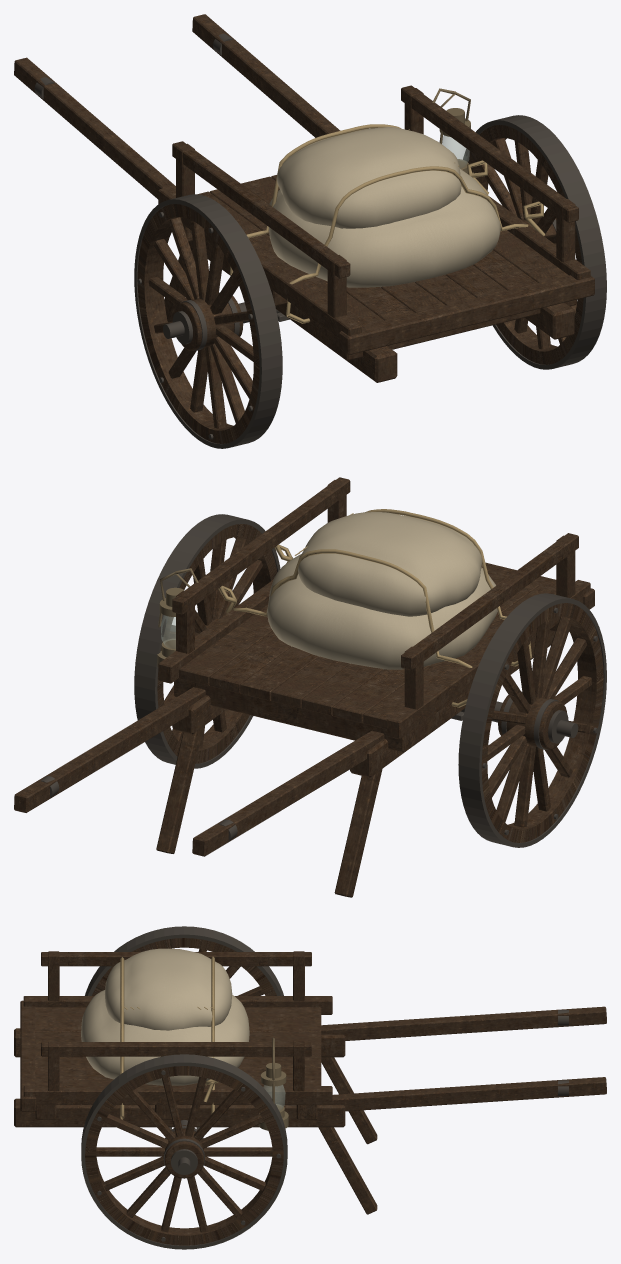
The model's file is rickshaw.glb.
3 views of the same model, one above another, from view 1: azimuth 30°, elevation 25°; view 2: azimuth 150°, elevation 25°; view 3: azimuth 270°, elevation 25° (orthographic). The views are drawn at different scales.
Parts seen in each view (by area): view 1: Rickshaw_Cart_Wood, Rickshaw_Cart_Linen, Rickshaw_Cart_Iron, Rickshaw_Cart_Hemp, Rickshaw_Cart_Lantern_Metal; view 2: Rickshaw_Cart_Wood, Rickshaw_Cart_Linen, Rickshaw_Cart_Iron, Rickshaw_Cart_Hemp, Rickshaw_Cart_Lantern_Metal; view 3: Rickshaw_Cart_Wood, Rickshaw_Cart_Linen, Rickshaw_Cart_Iron, Rickshaw_Cart_Hemp, Rickshaw_Cart_Lantern_Metal.
Part boxes in pixels (<box>): Rickshaw_Cart_Wood: <box>14,14,594,443</box>; Rickshaw_Cart_Linen: <box>268,127,500,287</box>; Rickshaw_Cart_Iron: <box>34,33,606,448</box>; Rickshaw_Cart_Hemp: <box>229,124,544,323</box>; Rickshaw_Cart_Lantern_Metal: <box>432,88,473,173</box>; Rickshaw_Cart_Wood: <box>14,477,603,897</box>; Rickshaw_Cart_Linen: <box>267,512,497,669</box>; Rickshaw_Cart_Iron: <box>40,514,606,847</box>; Rickshaw_Cart_Hemp: <box>218,509,532,707</box>; Rickshaw_Cart_Lantern_Metal: <box>157,568,198,666</box>; Rickshaw_Cart_Wood: <box>14,938,606,1245</box>; Rickshaw_Cart_Linen: <box>81,948,249,1085</box>; Rickshaw_Cart_Iron: <box>81,926,568,1249</box>; Rickshaw_Cart_Hemp: <box>120,956,218,1119</box>; Rickshaw_Cart_Lantern_Metal: <box>258,1037,288,1130</box>.
Bounding box in the file's own units: 2.39 × 1.48 × 3.72.
Materials: 6 (2 with a texture image).
